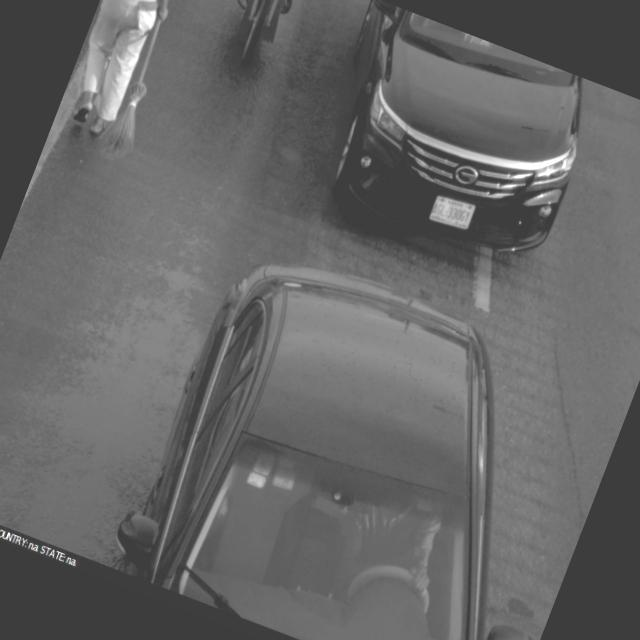windshield: (162, 407, 492, 640)
